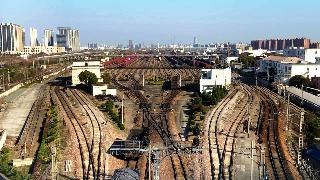train: (123, 128, 149, 159), (170, 75, 179, 89)
